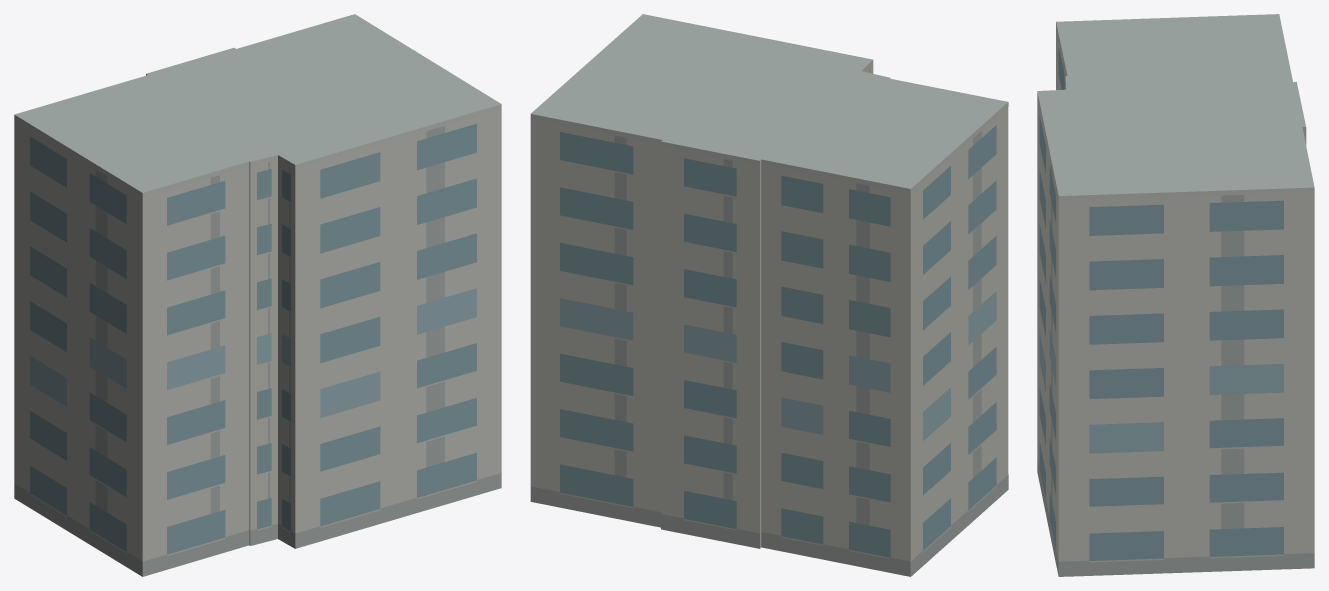
The model's file is survey-upis-32911987.glb.
3 renders of one model, left to right at view 1: azimuth 30°, elevation 25°; view 2: azimuth 150°, elevation 25°; view 3: azimuth 270°, elevation 25°, orthographic.
Visible parts, largest first — view 1: survey-upis-32911987.tmp; view 2: survey-upis-32911987.tmp; view 3: survey-upis-32911987.tmp.
Boxes of the visible parts, x1,y1,x2,y2 form: survey-upis-32911987.tmp: [14, 14, 501, 576]; survey-upis-32911987.tmp: [530, 14, 1008, 576]; survey-upis-32911987.tmp: [1037, 14, 1314, 576].
Size of the model in its own units: 19.38 by 18.89 by 12.47.
